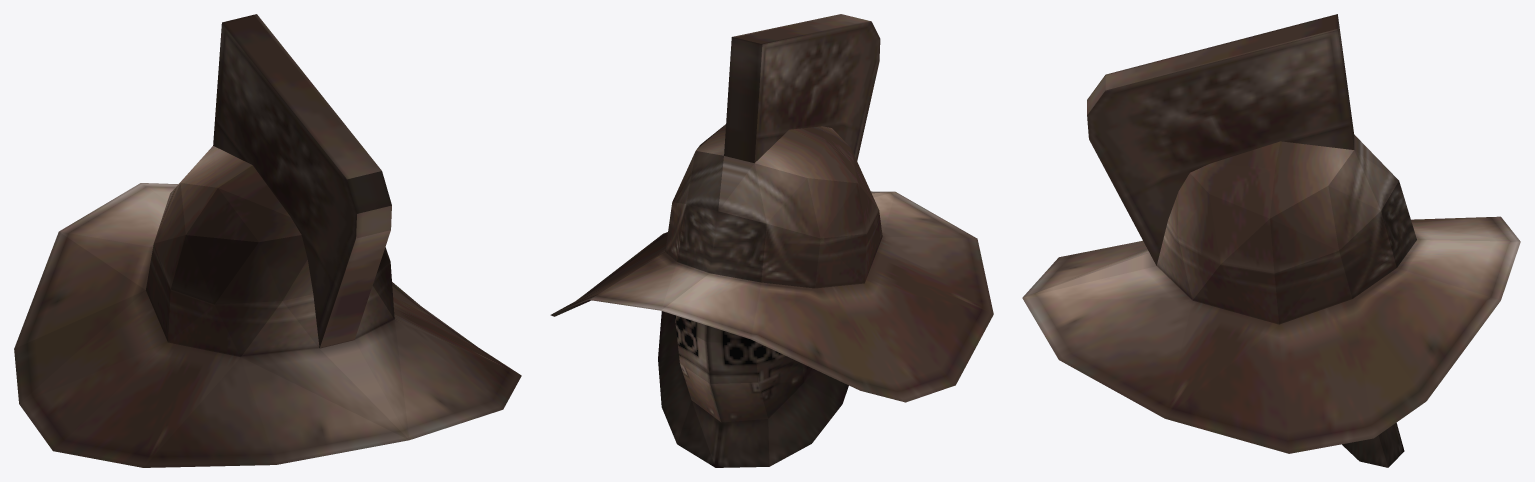
Rendered from BISLPS-25456GG.obj.
The picture shows the model from 3 angles, left to right: view 1: azimuth 30°, elevation 25°; view 2: azimuth 150°, elevation 25°; view 3: azimuth 270°, elevation 25°; orthographic projection. The views are drawn at different scales.
Size of the model in its own units: 4.11 by 4.28 by 4.5.
1 material, 1 textured.
